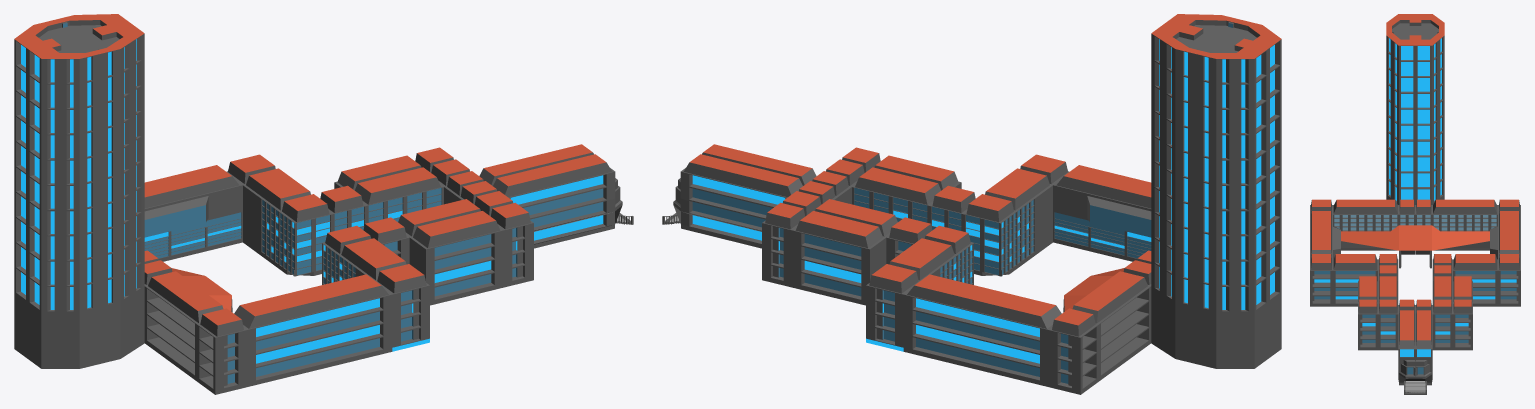
The model's file is School_v2.glb.
The picture shows the model from 3 angles, left to right: view 1: azimuth 30°, elevation 25°; view 2: azimuth 150°, elevation 25°; view 3: azimuth 270°, elevation 25°; orthographic projection. The views are drawn at different scales.
Parts seen in each view (by area): view 1: Cube.017; view 2: Cube.017; view 3: Cube.017.
Boxes of the visible parts, left/top/right/bottom form: Cube.017: left=14, top=14, right=633, bottom=394; Cube.017: left=662, top=14, right=1281, bottom=394; Cube.017: left=1310, top=14, right=1520, bottom=394.
Bounding box in the file's own units: 82.51 × 41.56 × 40.11.
2 materials, 1 textured.
